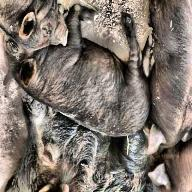boar: (0, 38, 157, 125), (0, 122, 145, 192), (145, 1, 191, 160), (0, 0, 69, 69)
